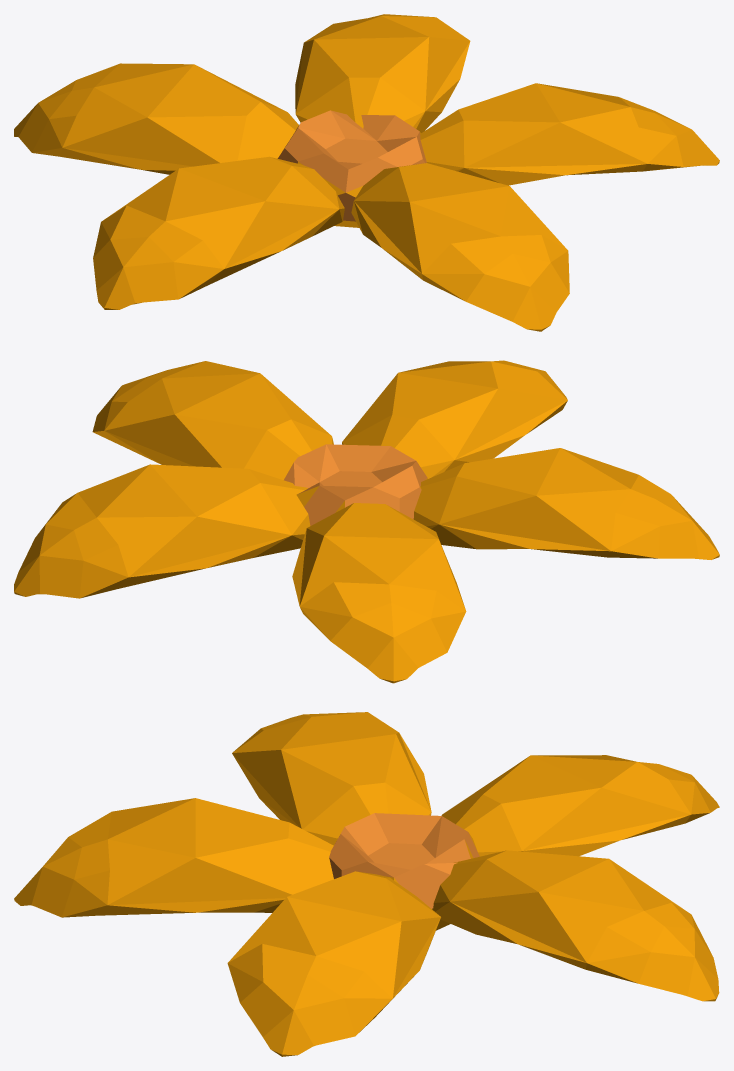
File: _flower.fbx
The picture shows the model from 3 angles, top to bottom: view 1: azimuth 30°, elevation 25°; view 2: azimuth 150°, elevation 25°; view 3: azimuth 270°, elevation 25°; orthographic projection. The views are drawn at different scales.
Visible parts, largest first — view 1: Merge_0; view 2: Merge_0; view 3: Merge_0.
Boxes of the visible parts, box(x1,y1,x2,y2) form: Merge_0: box(14, 14, 719, 331); Merge_0: box(14, 360, 719, 683); Merge_0: box(14, 712, 719, 1056).
Size of the model in its own units: 499 by 75.75 by 476.
